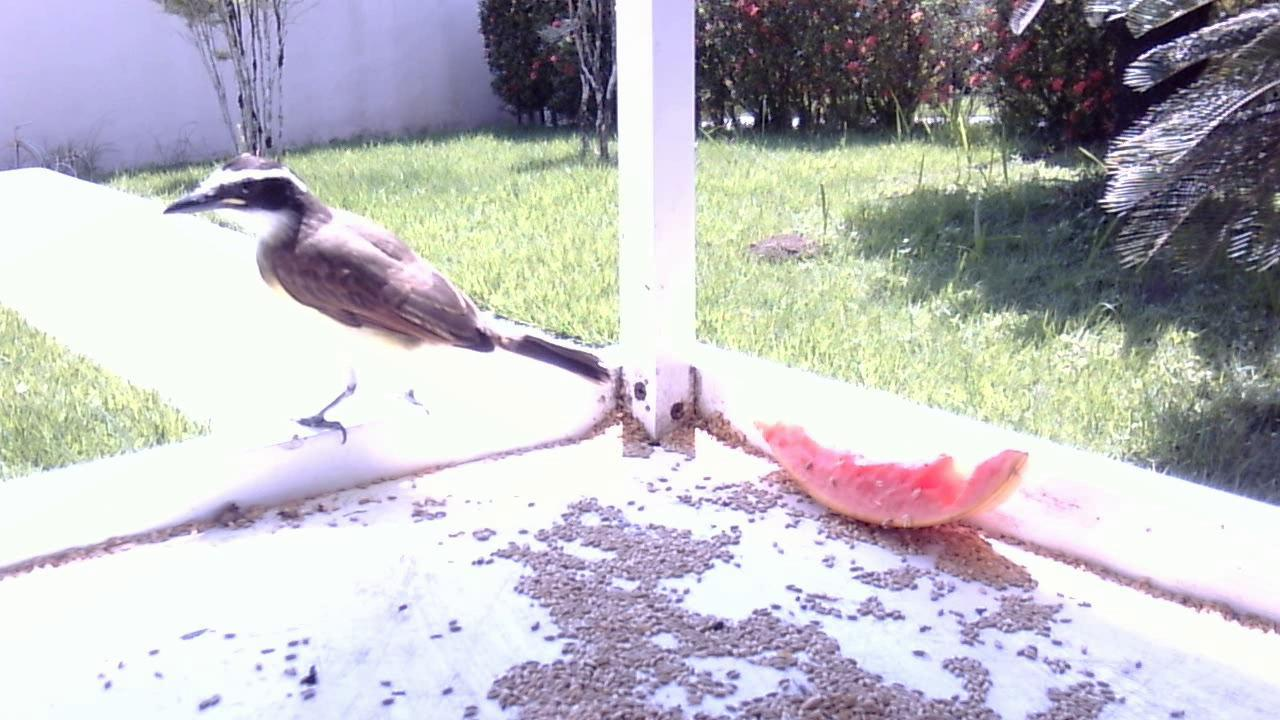bem_te_vi: (145, 137, 627, 477)
